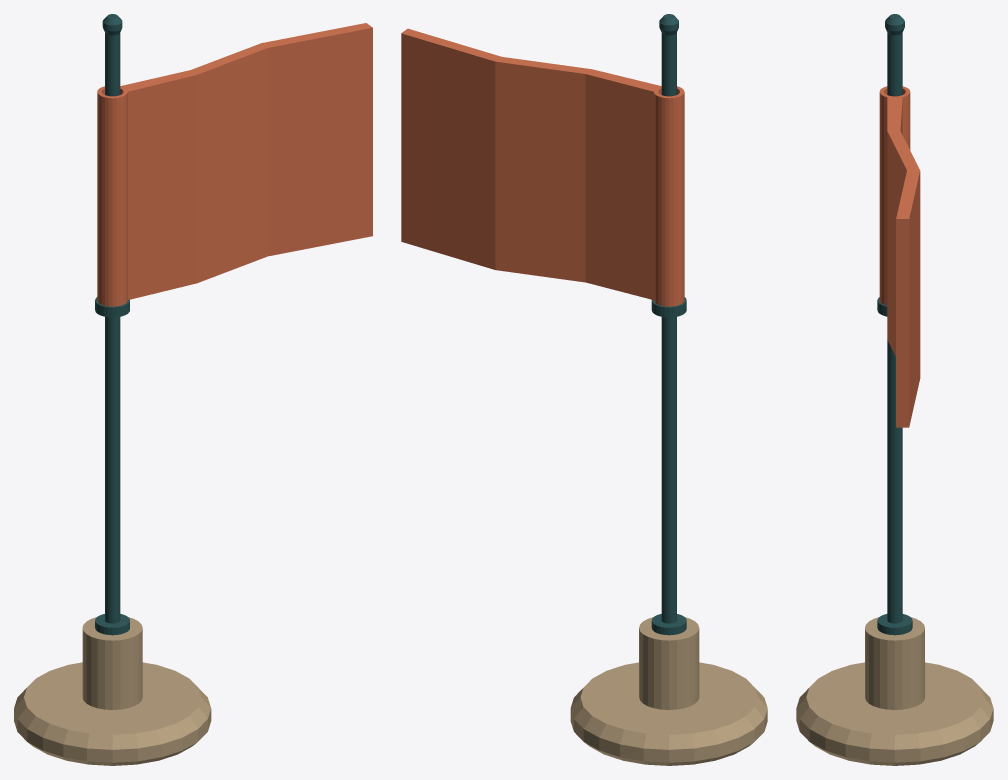
3 renders of one model, left to right at view 1: azimuth 30°, elevation 25°; view 2: azimuth 150°, elevation 25°; view 3: azimuth 270°, elevation 25°, orthographic.
Parts seen in each view (by area): view 1: Flag_ContinuousHollowSleeveAndThickFold, Foot_ClosedFiniteGround, Pole_IntegralSeatingShoulder, Socket_TrueThroughBore; view 2: Flag_ContinuousHollowSleeveAndThickFold, Foot_ClosedFiniteGround, Pole_IntegralSeatingShoulder, Socket_TrueThroughBore; view 3: Foot_ClosedFiniteGround, Flag_ContinuousHollowSleeveAndThickFold, Pole_IntegralSeatingShoulder, Socket_TrueThroughBore.
Part boxes in pixels (box(x1,y1,x2,y2)): Flag_ContinuousHollowSleeveAndThickFold: box(97, 23, 372, 306); Foot_ClosedFiniteGround: box(14, 662, 211, 765); Pole_IntegralSeatingShoulder: box(95, 14, 129, 635); Socket_TrueThroughBore: box(82, 617, 142, 709); Flag_ContinuousHollowSleeveAndThickFold: box(401, 28, 684, 306); Foot_ClosedFiniteGround: box(570, 662, 767, 765); Pole_IntegralSeatingShoulder: box(651, 14, 686, 635); Socket_TrueThroughBore: box(639, 617, 699, 709); Foot_ClosedFiniteGround: box(796, 662, 993, 765); Flag_ContinuousHollowSleeveAndThickFold: box(879, 86, 920, 427); Pole_IntegralSeatingShoulder: box(877, 14, 912, 635); Socket_TrueThroughBore: box(865, 617, 924, 709).
Bounding box in the file's own units: 0.73 × 1.43 × 0.36.
